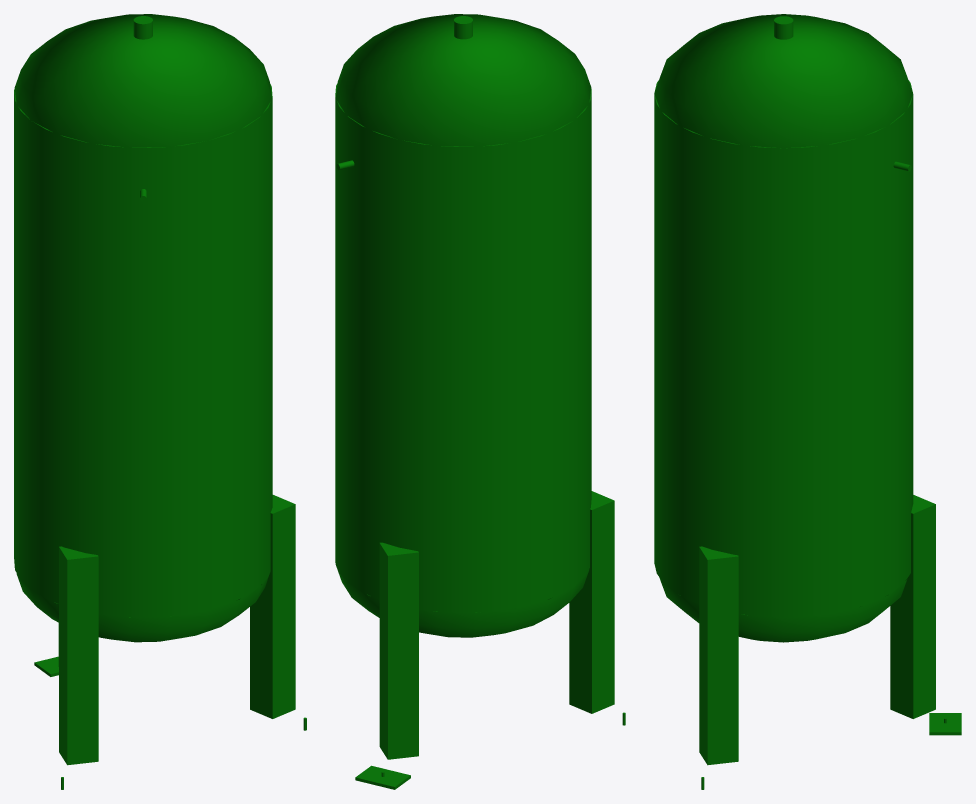
Rendered from Image-1710907682462-2280643547040_63-VX51.fbx.
3 renders of one model, left to right at view 1: azimuth 30°, elevation 25°; view 2: azimuth 150°, elevation 25°; view 3: azimuth 270°, elevation 25°, orthographic.
Parts seen in each view (by area): view 1: CYLINDER 4 of EQUIPMENT /63-VX51, DISH 2 of EQUIPMENT /63-VX51, BOX 3 of EQUIPMENT /63-VX51, BOX 4 of EQUIPMENT /63-VX51, DISH 1 of EQUIPMENT /63-VX51; view 2: CYLINDER 4 of EQUIPMENT /63-VX51, DISH 2 of EQUIPMENT /63-VX51, BOX 2 of EQUIPMENT /63-VX51, BOX 3 of EQUIPMENT /63-VX51, DISH 1 of EQUIPMENT /63-VX51, BOX 1 of EQUIPMENT /63-VX51; view 3: CYLINDER 4 of EQUIPMENT /63-VX51, DISH 2 of EQUIPMENT /63-VX51, BOX 4 of EQUIPMENT /63-VX51, BOX 2 of EQUIPMENT /63-VX51, DISH 1 of EQUIPMENT /63-VX51, BOX 1 of EQUIPMENT /63-VX51.
Boxes of the visible parts, x1,y1,x2,y2 form: CYLINDER 4 of EQUIPMENT /63-VX51: (14, 84, 272, 617); DISH 2 of EQUIPMENT /63-VX51: (14, 14, 271, 147); BOX 3 of EQUIPMENT /63-VX51: (59, 546, 98, 765); BOX 4 of EQUIPMENT /63-VX51: (250, 495, 295, 718); DISH 1 of EQUIPMENT /63-VX51: (16, 573, 268, 642); CYLINDER 4 of EQUIPMENT /63-VX51: (335, 83, 591, 612); DISH 2 of EQUIPMENT /63-VX51: (335, 14, 591, 146); BOX 2 of EQUIPMENT /63-VX51: (379, 542, 418, 759); BOX 3 of EQUIPMENT /63-VX51: (569, 491, 614, 713); DISH 1 of EQUIPMENT /63-VX51: (335, 564, 589, 637); BOX 1 of EQUIPMENT /63-VX51: (355, 765, 410, 789); CYLINDER 4 of EQUIPMENT /63-VX51: (654, 80, 913, 617); DISH 2 of EQUIPMENT /63-VX51: (654, 14, 912, 148); BOX 4 of EQUIPMENT /63-VX51: (699, 546, 738, 765); BOX 2 of EQUIPMENT /63-VX51: (890, 495, 935, 718); DISH 1 of EQUIPMENT /63-VX51: (659, 577, 907, 642); BOX 1 of EQUIPMENT /63-VX51: (929, 713, 961, 735).
Bounding box in the file's own units: 0.876 × 0.95 × 2.42.
